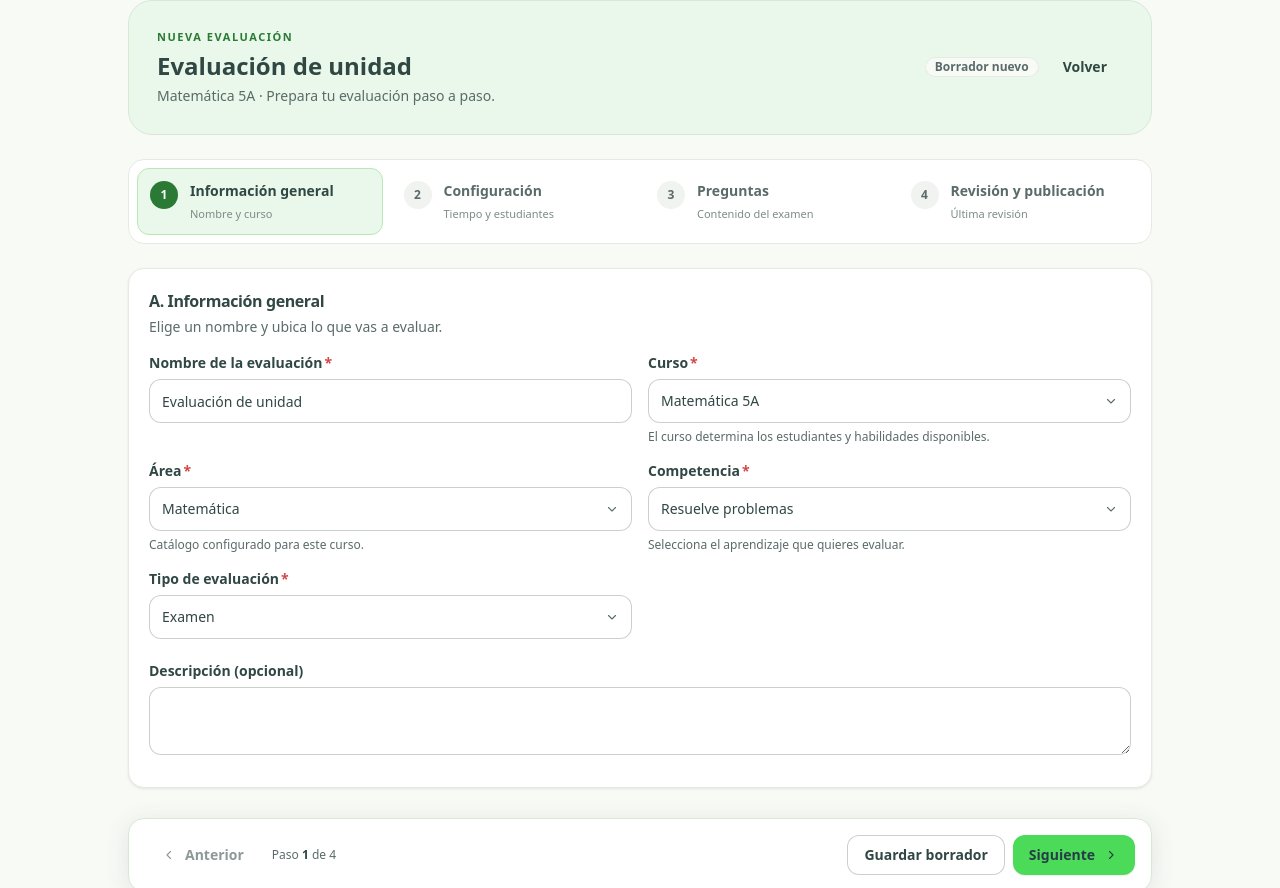
Test case: AssessmentEditor › shows backend save errors and associates known failures with a field
Click the button "Guardar borrador".
click(926, 855)  # box [847,835,1005,875]
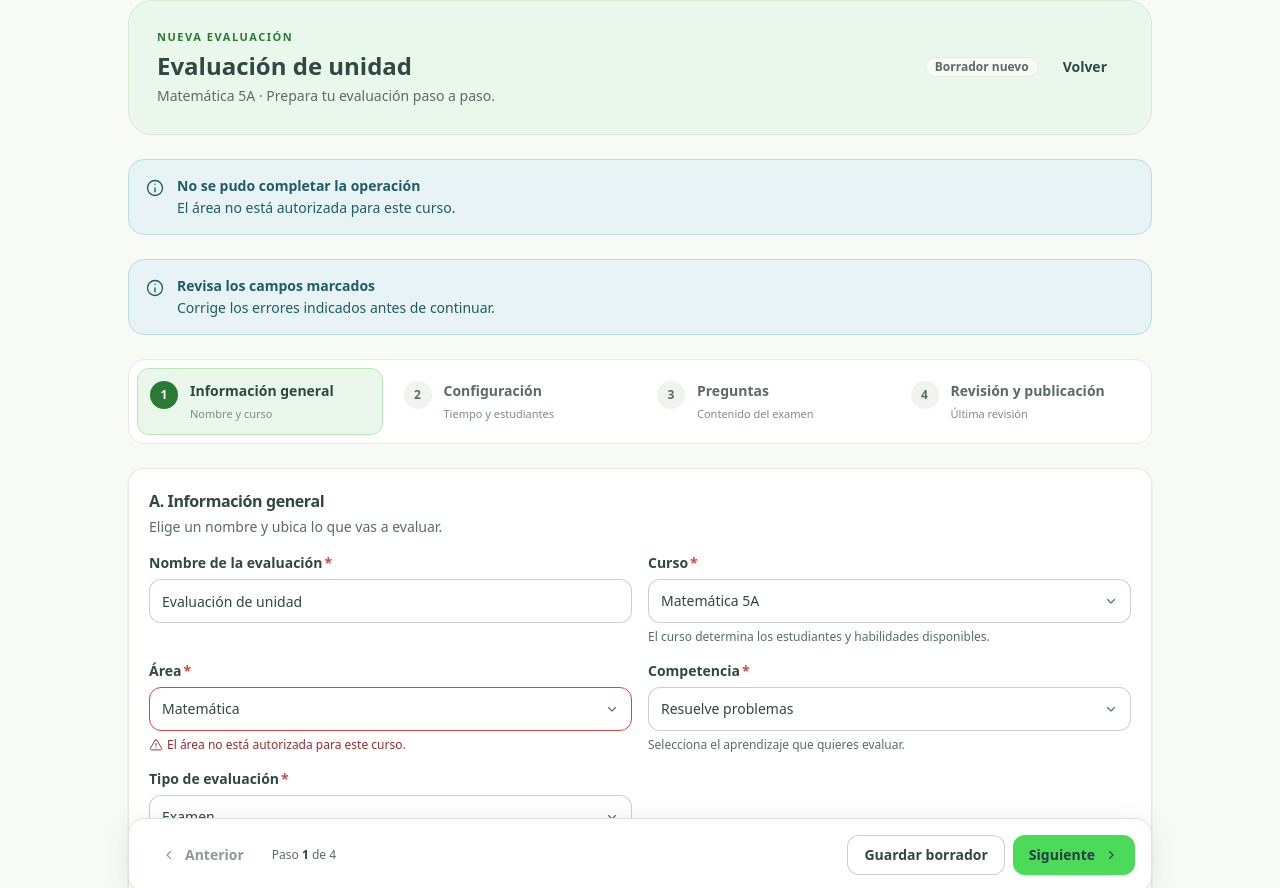
Result: the message with id "assessment-areaId-error" reads "El área no está autorizada para este curso." at [167,736,406,753]
